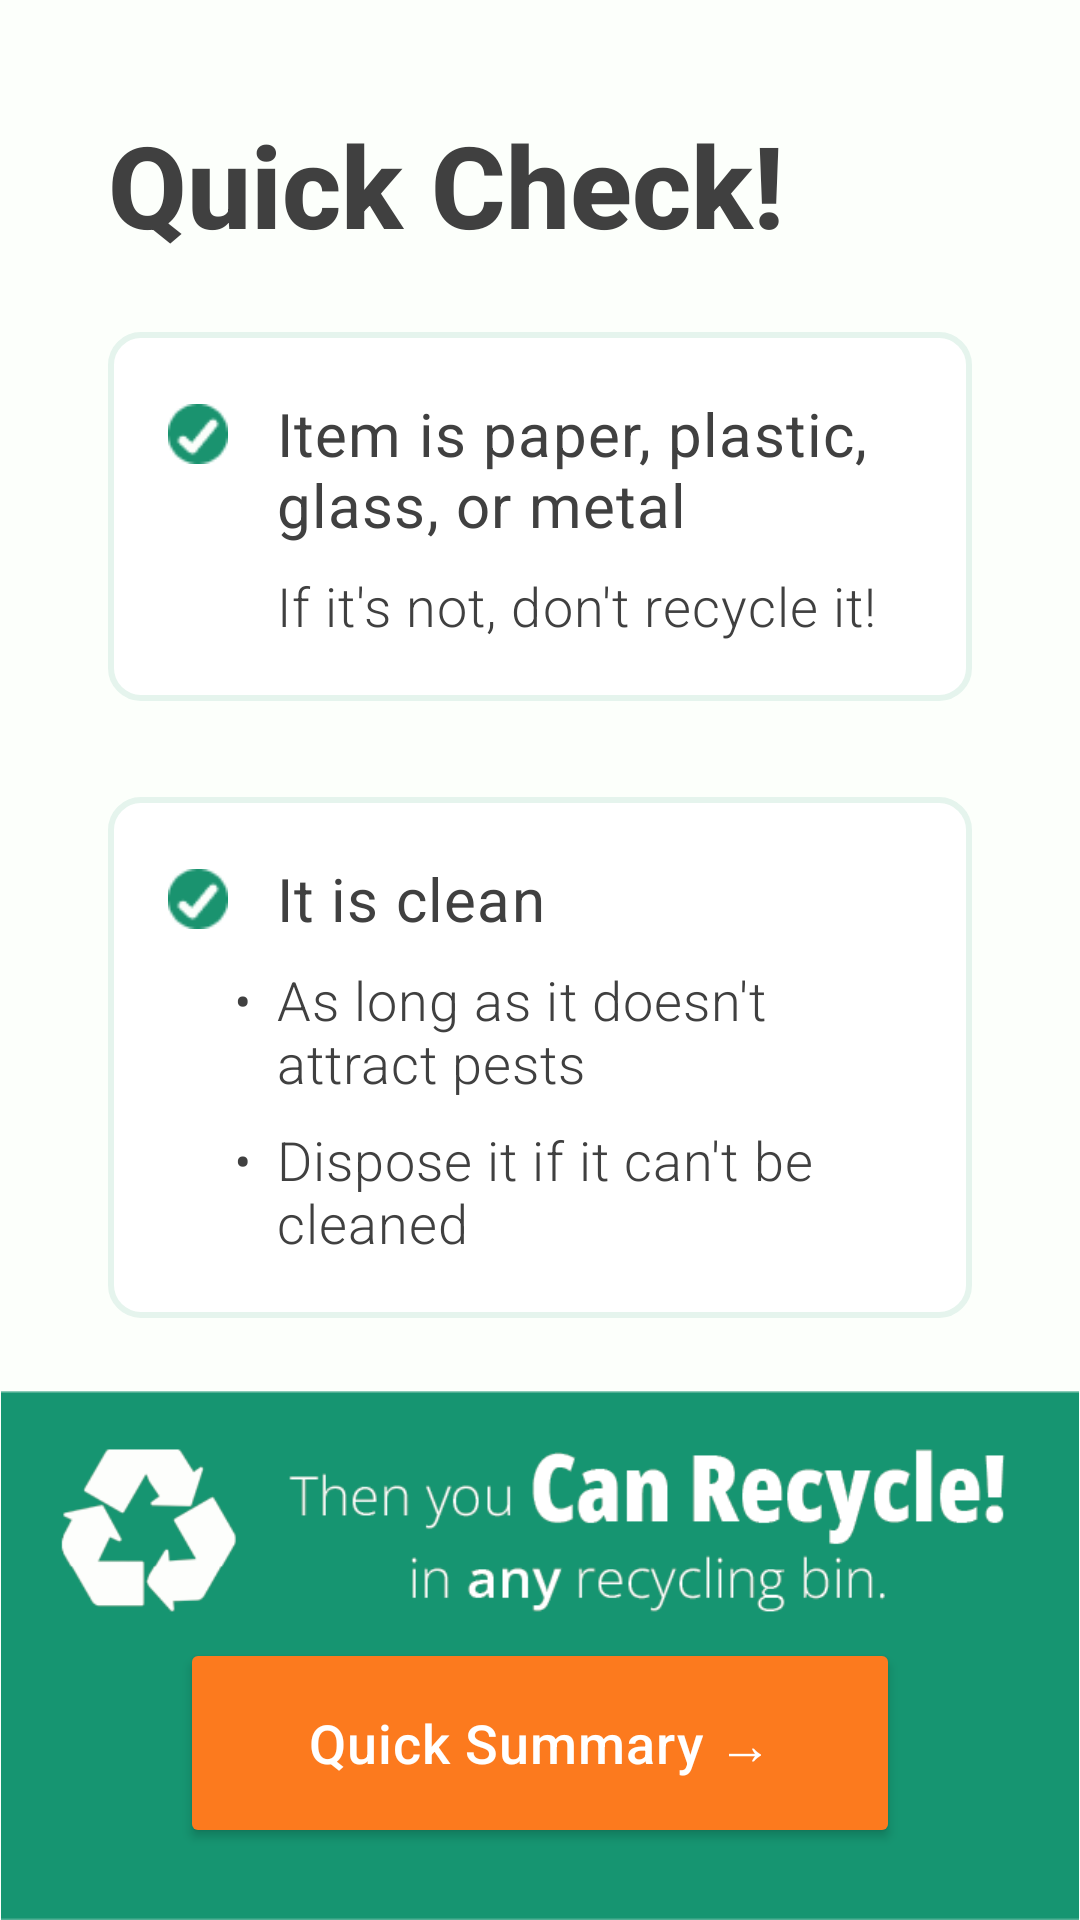

Named icons in this screenshot (1080 × 1920) and their bounding boxes, (x1=x1, y1=y1, x2=x2, y2=y2):
checkmark: (x1=168, y1=404, x2=228, y2=464), (x1=168, y1=869, x2=228, y2=929)
